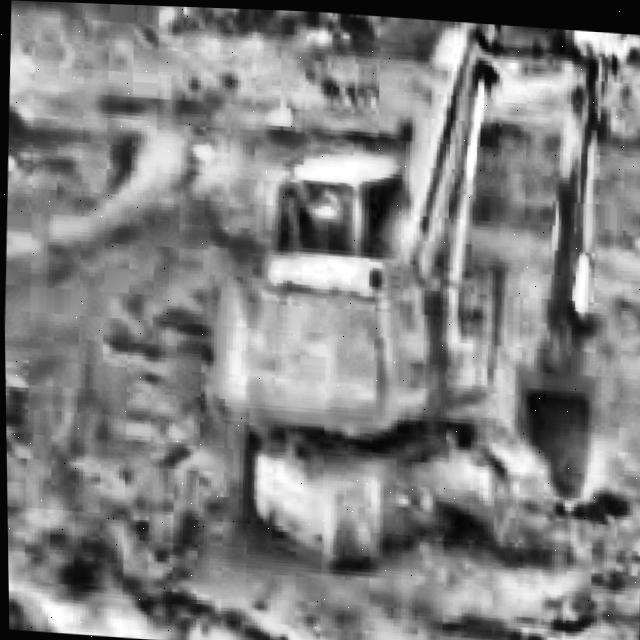excavator: (189, 5, 615, 590)
